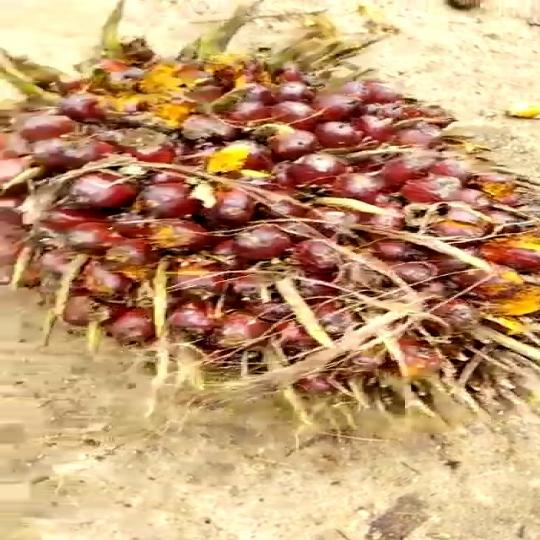masak: (0, 29, 540, 412)
